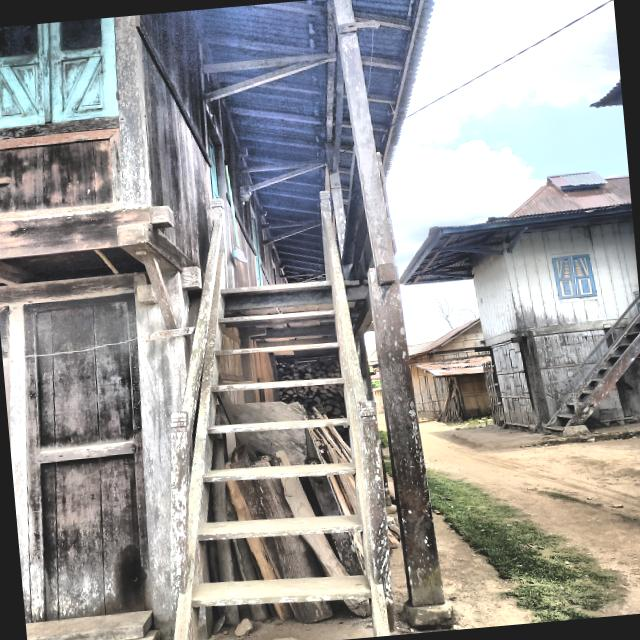column: (366, 265, 446, 605), (132, 265, 202, 640), (511, 331, 550, 429)
roof: (193, 0, 431, 284), (399, 171, 632, 284)
stair: (171, 190, 393, 640), (544, 293, 640, 431)
wall: (141, 10, 246, 267), (469, 220, 639, 340), (535, 329, 605, 419), (491, 340, 534, 424)
window: (0, 17, 118, 128), (551, 253, 596, 299)
